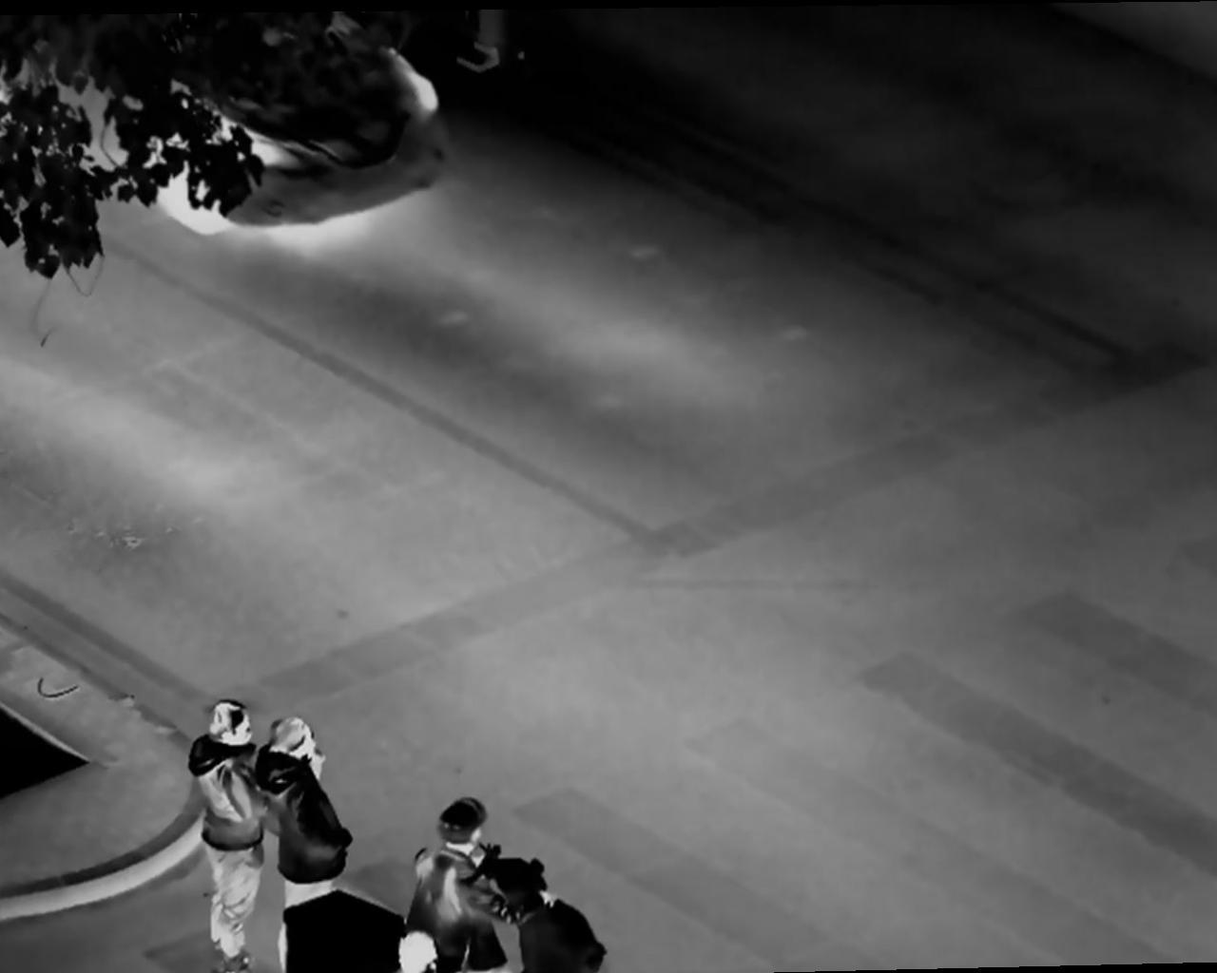person: (179, 695, 270, 969), (408, 793, 517, 973), (263, 714, 359, 903)
